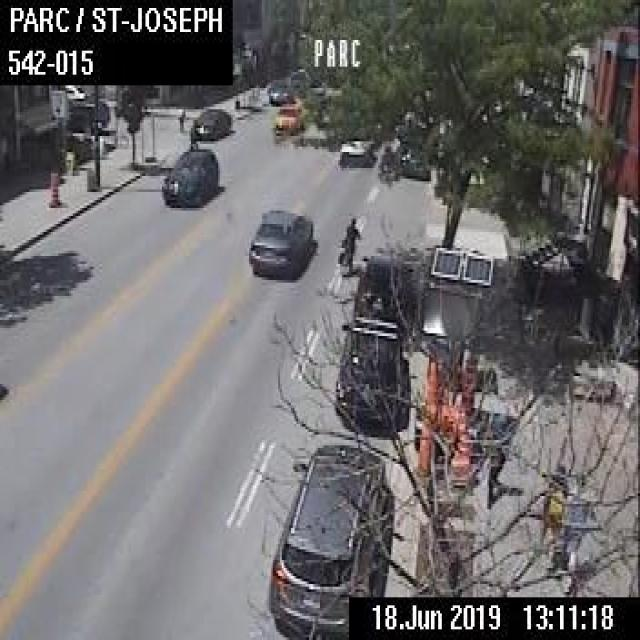construction: (419, 242, 492, 406), (448, 409, 473, 483), (415, 408, 433, 474), (422, 358, 439, 422), (462, 347, 478, 411), (46, 171, 58, 205)
pedestrian: (540, 457, 578, 570), (337, 213, 360, 274)
vehicle: (265, 438, 393, 638), (333, 315, 403, 429), (246, 200, 316, 280), (353, 252, 413, 338), (160, 147, 217, 206), (190, 106, 230, 138), (400, 146, 430, 180), (273, 102, 305, 133), (337, 141, 373, 168), (268, 78, 289, 104)
